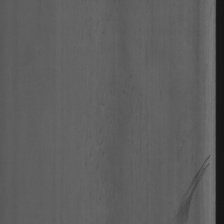water_spot: (87, 49, 148, 206), (174, 151, 215, 223)
